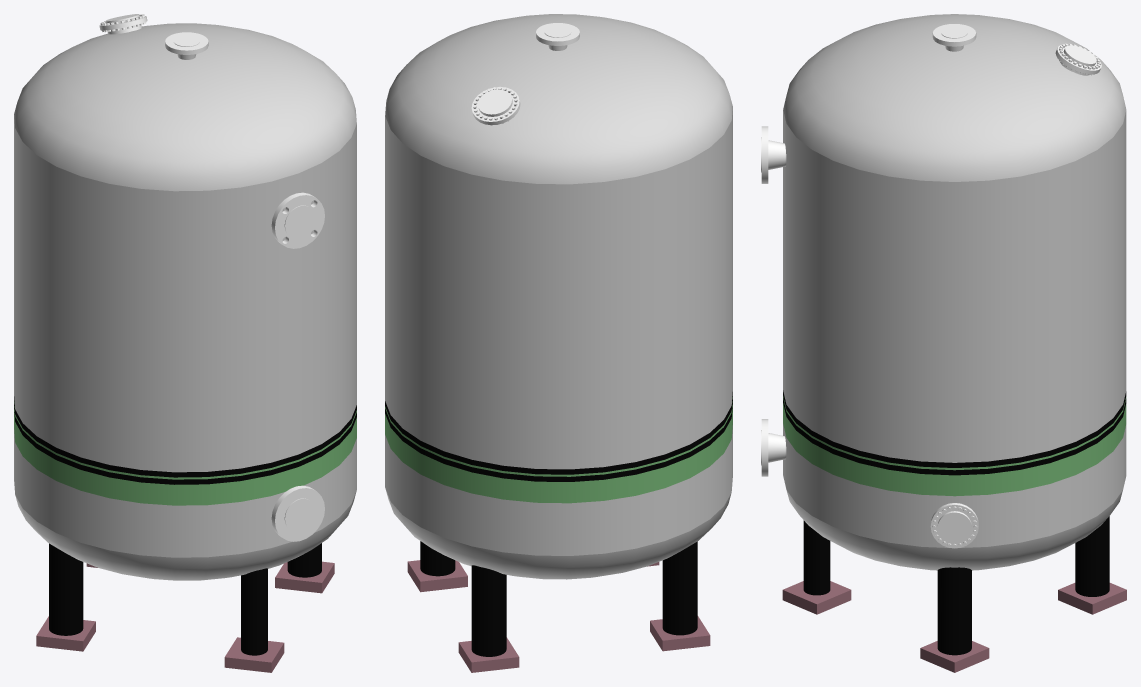
The model's file is CM01-FA_Agua_Recuperada.glb.
3 views of the same model, side by side, from view 1: azimuth 30°, elevation 25°; view 2: azimuth 150°, elevation 25°; view 3: azimuth 270°, elevation 25° (orthographic).
Visible parts, largest first — view 1: 3DGeom-12, 3DGeom-2 (×2), 3DGeom-13, 3DGeom-17 (×3), 3DGeom-14, 3DGeom-21, 3DGeom-8, 3DGeom-20, 3DGeom-5, 3DGeom-11, 3DGeom-15, 3DGeom-6; view 2: 3DGeom-12, 3DGeom-2 (×2), 3DGeom-13, 3DGeom-14, 3DGeom-4, 3DGeom-21, 3DGeom-6, 3DGeom-9, 3DGeom-5, 3DGeom-11, 3DGeom-17, 3DGeom-15; view 3: 3DGeom-12, 3DGeom-2 (×2), 3DGeom-13, 3DGeom-14, 3DGeom-15, 3DGeom-17 (×3), 3DGeom-4, 3DGeom-7, 3DGeom-8, 3DGeom-20, 3DGeom-11, 3DGeom-9 (+1 smaller).
Boxes of the visible parts, left/top/right/bottom form: 3DGeom-12: left=14, top=115, right=356, bottom=557; 3DGeom-2 (×2): left=14, top=23, right=356, bottom=580; 3DGeom-13: left=14, top=401, right=356, bottom=505; 3DGeom-17 (×3): left=165, top=32, right=324, bottom=541; 3DGeom-14: left=14, top=396, right=356, bottom=484; 3DGeom-21: left=49, top=543, right=83, bottom=635; 3DGeom-8: left=241, top=568, right=267, bottom=655; 3DGeom-20: left=224, top=637, right=284, bottom=672; 3DGeom-5: left=36, top=616, right=95, bottom=651; 3DGeom-11: left=275, top=561, right=334, bottom=593; 3DGeom-15: left=287, top=543, right=321, bottom=577; 3DGeom-6: left=99, top=14, right=147, bottom=34; 3DGeom-12: left=385, top=106, right=732, bottom=555; 3DGeom-2 (×2): left=385, top=14, right=732, bottom=579; 3DGeom-13: left=385, top=397, right=732, bottom=503; 3DGeom-14: left=385, top=392, right=732, bottom=481; 3DGeom-4: left=471, top=565, right=506, bottom=656; 3DGeom-21: left=662, top=541, right=697, bottom=635; 3DGeom-6: left=471, top=86, right=520, bottom=125; 3DGeom-9: left=458, top=637, right=519, bottom=672; 3DGeom-5: left=650, top=616, right=710, bottom=651; 3DGeom-11: left=407, top=560, right=467, bottom=592; 3DGeom-17: left=536, top=23, right=579, bottom=50; 3DGeom-15: left=420, top=541, right=455, bottom=576; 3DGeom-12: left=783, top=110, right=1126, bottom=547; 3DGeom-2 (×2): left=783, top=14, right=1126, bottom=570; 3DGeom-13: left=783, top=396, right=1126, bottom=496; 3DGeom-14: left=783, top=390, right=1126, bottom=475; 3DGeom-15: left=937, top=567, right=971, bottom=655; 3DGeom-17 (×3): left=761, top=24, right=976, bottom=476; 3DGeom-4: left=1075, top=516, right=1109, bottom=596; 3DGeom-7: left=930, top=503, right=978, bottom=548; 3DGeom-8: left=803, top=520, right=830, bottom=595; 3DGeom-20: left=782, top=581, right=851, bottom=614; 3DGeom-11: left=920, top=641, right=989, bottom=672; 3DGeom-9: left=1058, top=583, right=1126, bottom=614.
Bounding box in the file's own units: 2.09 × 3.66 × 2.14.
